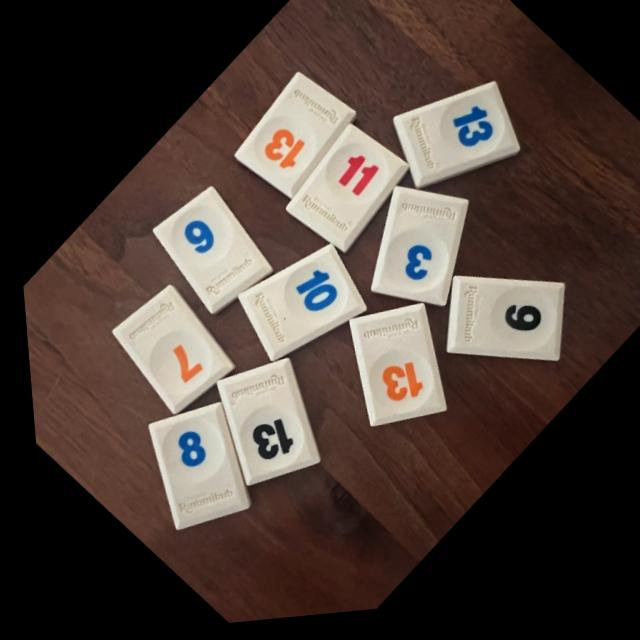black_13: (210, 362, 311, 489)
black_9: (440, 284, 558, 370)
blue_10: (233, 250, 360, 365)
blue_13: (390, 91, 516, 196)
blue_3: (366, 194, 464, 313)
blue_8: (141, 406, 242, 531)
blue_9: (149, 189, 267, 316)
orange_13: (231, 77, 353, 203), (343, 310, 438, 432)
orange_7: (107, 287, 228, 416)
red_11: (282, 130, 404, 258)
